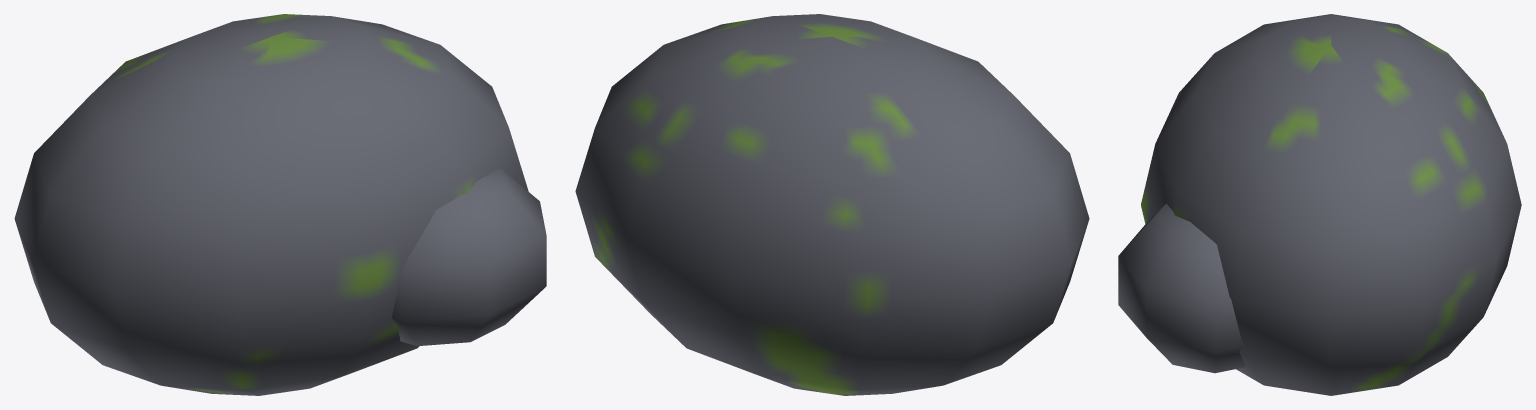
Rendered from prop_rock0_4dcc.glb.
The picture shows the model from 3 angles, left to right: view 1: azimuth 30°, elevation 25°; view 2: azimuth 150°, elevation 25°; view 3: azimuth 270°, elevation 25°; orthographic projection. The views are drawn at different scales.
Visible parts, largest first — view 1: prop_rock0_4dcc; view 2: prop_rock0_4dcc; view 3: prop_rock0_4dcc.
Part boxes in pixels (x1,y1,x2,y2): prop_rock0_4dcc: (14, 14, 546, 395); prop_rock0_4dcc: (575, 14, 1089, 395); prop_rock0_4dcc: (1118, 14, 1521, 395).
Size of the model in its own units: 0.7954 by 0.5356 by 0.6135.
Materials: 1 (1 with a texture image).
